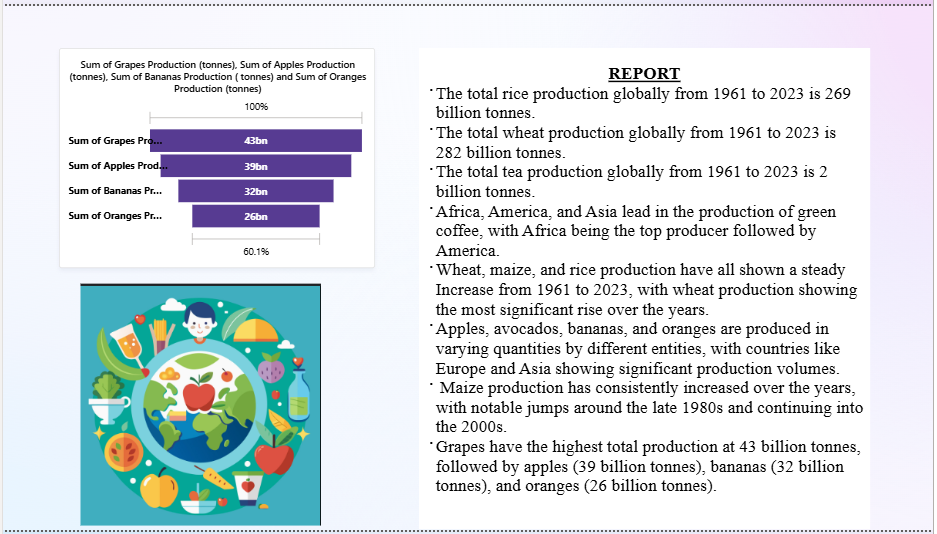

This screenshot's page, from the dashboard's own definition file:
{"tool":"powerbi","page":{"name":"Page 2","canvas":[1280,720],"ordinal":1},"visuals":[{"type":"funnel","fields":{"Y":["Sum(world food production.Grapes  Production (tonnes))","Sum(world food production.Apples Production (tonnes))","Sum(world food production.Bananas  Production ( tonnes))","Sum(world food production.Oranges  Production (tonnes))"]},"box":[77.1,57.8,434.9,302.8],"z":0},{"type":"image","box":[31.7,377.1,480.3,342.7],"z":1000},{"type":"textbox","box":[572.6,57.8,620.7,662],"z":2000}]}

Visuals, with their boxes in screenshot pixels (x1, y1, x2, y2), scaled from the page's 1280x720 canvas onto the 937x534 screenshot:
funnel - Sum(world food production.Grapes  Production (tonnes)) x Sum(world food production.Apples Production (tonnes)): <bbox>56, 43, 375, 267</bbox>
image: <bbox>23, 280, 375, 533</bbox>
textbox: <bbox>419, 43, 874, 533</bbox>
